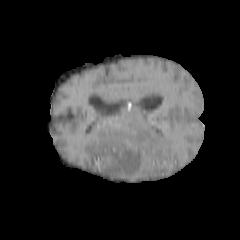glioma: (86, 120, 175, 177)
